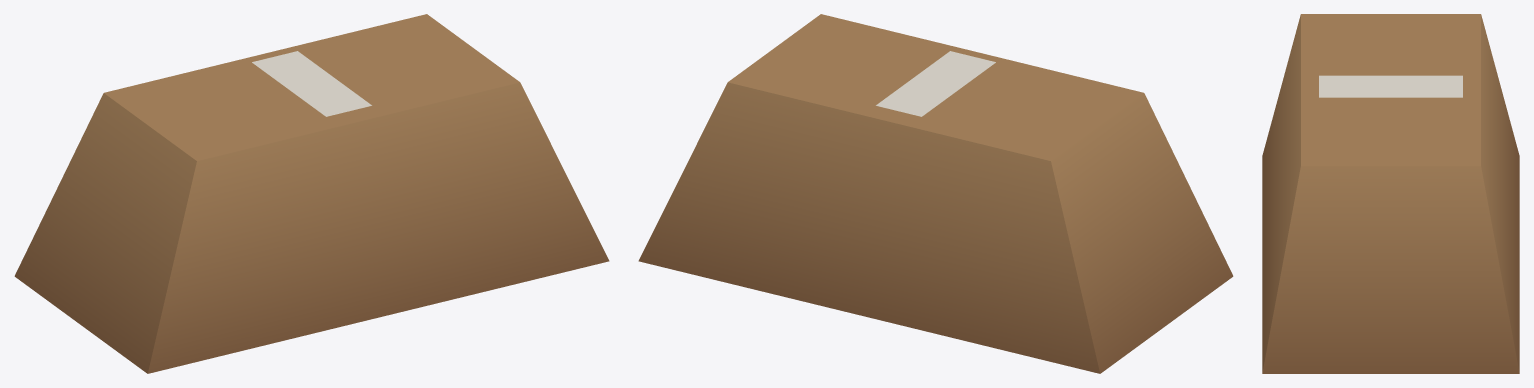
The model's file is regal.fixture.glb.
3 renders of one model, left to right at view 1: azimuth 30°, elevation 25°; view 2: azimuth 150°, elevation 25°; view 3: azimuth 270°, elevation 25°, orthographic. The views are drawn at different scales.
Parts seen in each view (by area): view 1: testbrot-500g; view 2: testbrot-500g; view 3: testbrot-500g.
Part boxes in pixels (left/top/right/bottom): testbrot-500g: left=14, top=14, right=609, bottom=373; testbrot-500g: left=638, top=14, right=1233, bottom=373; testbrot-500g: left=1262, top=14, right=1519, bottom=373.
Size of the model in its own units: 0.2 by 0.0765 by 0.1.
